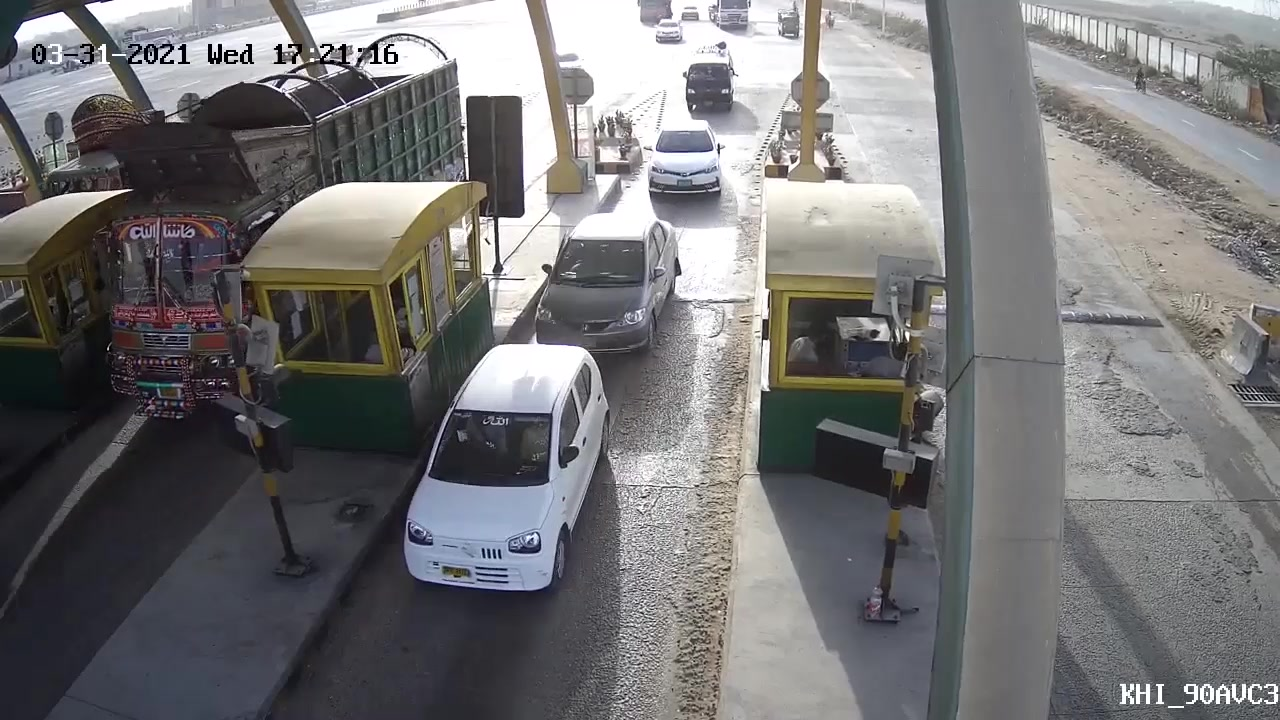F1: (400, 335, 600, 617), (525, 209, 687, 362)
